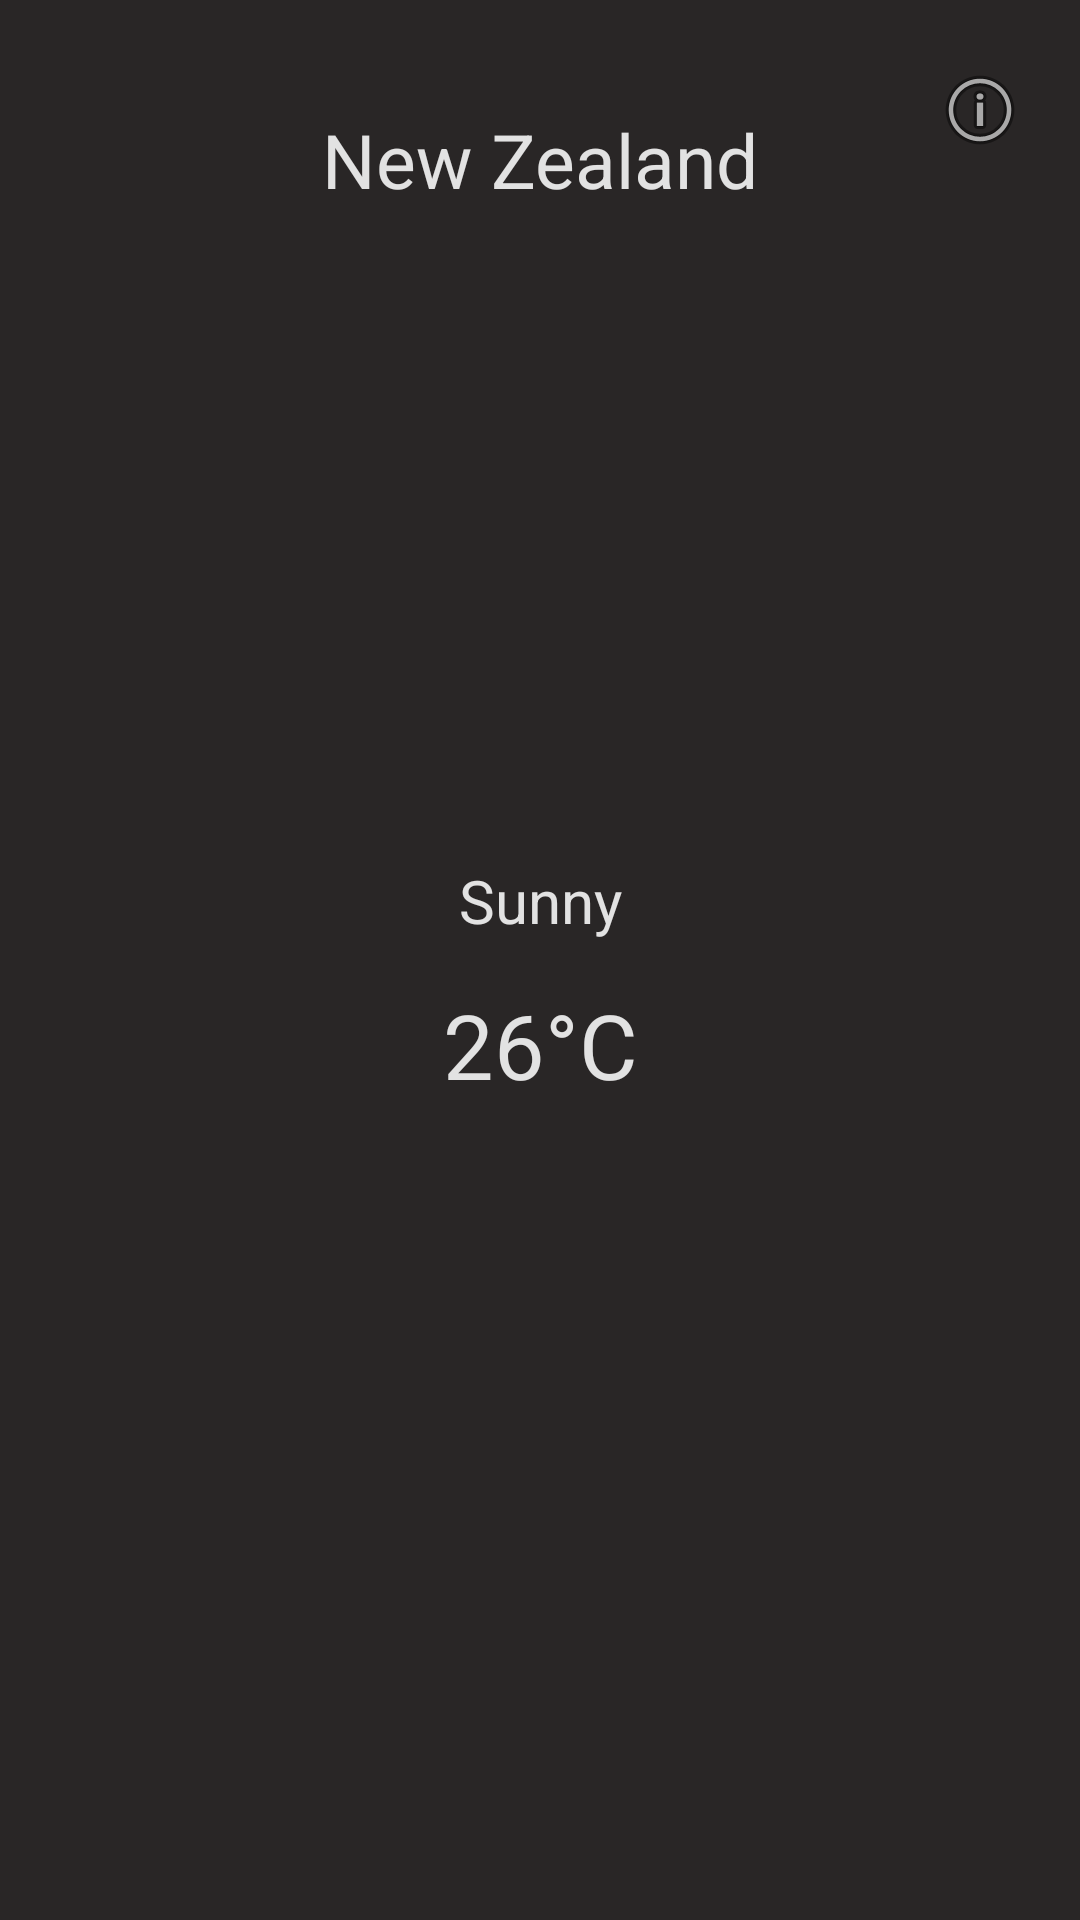

Screen size 1080w x 1920h. Icon name, then its center in pixels as point (x, y):
info details: point (979, 110)
